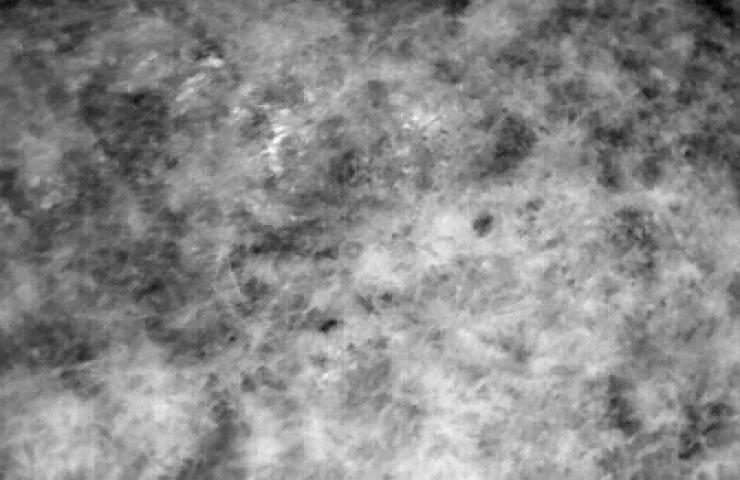landmines: (335, 237, 372, 267)
